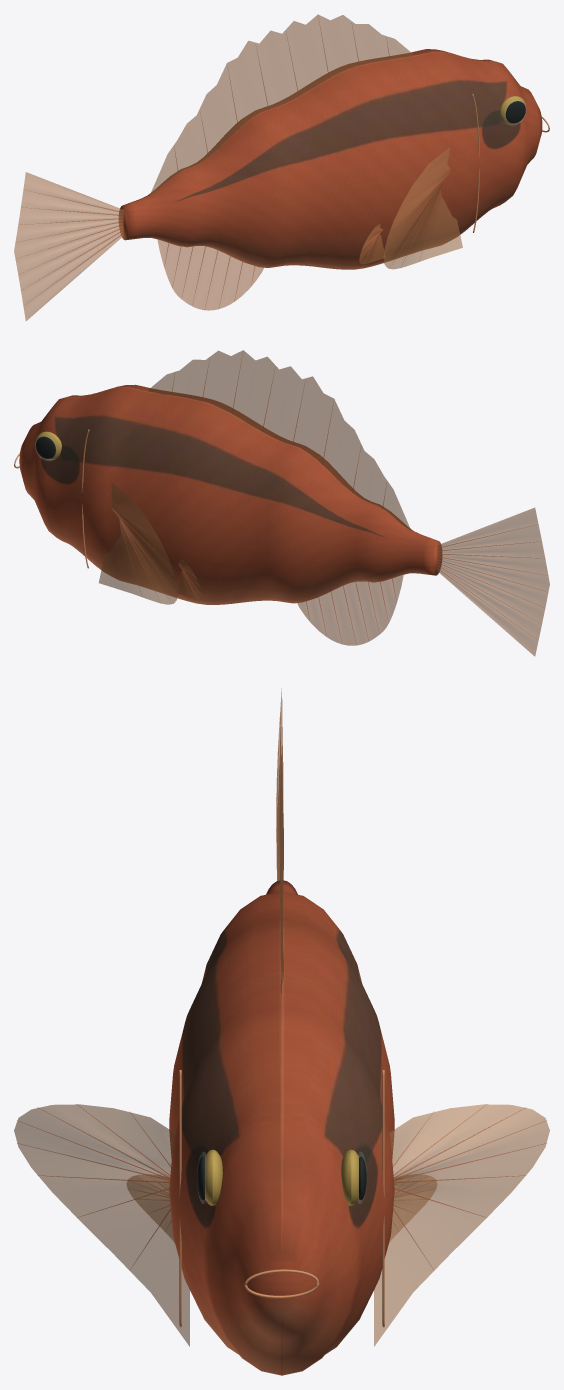
The model's file is hawk-mobile.glb.
The picture shows the model from 3 angles, top to bottom: view 1: azimuth 30°, elevation 25°; view 2: azimuth 150°, elevation 25°; view 3: azimuth 270°, elevation 25°; orthographic projection. The views are drawn at different scales.
Visible parts, largest first — view 1: skin, dorsal, tail, pectoral-left, anal, dorsal-ray, pelvic-left; view 2: skin, dorsal, tail, pectoral-left, anal, dorsal-ray, pelvic-left; view 3: skin, pectoral-left, pelvic-left, dorsal-ray, operculum, eye-iris--1, tail, dorsal.
Part boxes in pixels (x1,y1,x2,y2): skin: (119, 49, 542, 269); dorsal: (150, 14, 413, 194); tail: (14, 172, 123, 320); pectoral-left: (383, 147, 462, 269); anal: (157, 239, 263, 310); dorsal-ray: (20, 22, 449, 309); pelvic-left: (359, 224, 385, 264); skin: (19, 384, 442, 604); dorsal: (148, 350, 410, 530); tail: (437, 507, 549, 656); pectoral-left: (99, 482, 177, 604); anal: (297, 575, 403, 645); dorsal-ray: (111, 351, 547, 641); pelvic-left: (176, 559, 201, 599); skin: (169, 880, 394, 1375); pectoral-left: (14, 1104, 549, 1346); pelvic-left: (127, 1174, 436, 1242); dorsal-ray: (17, 715, 546, 1266); operculum: (179, 1070, 384, 1327); eye-iris--1: (204, 1149, 359, 1205); tail: (276, 688, 283, 880); dorsal: (280, 748, 283, 993).
Bounding box in the file's own units: 0.5972 × 0.2929 × 0.2852.
11 materials, 1 textured.
